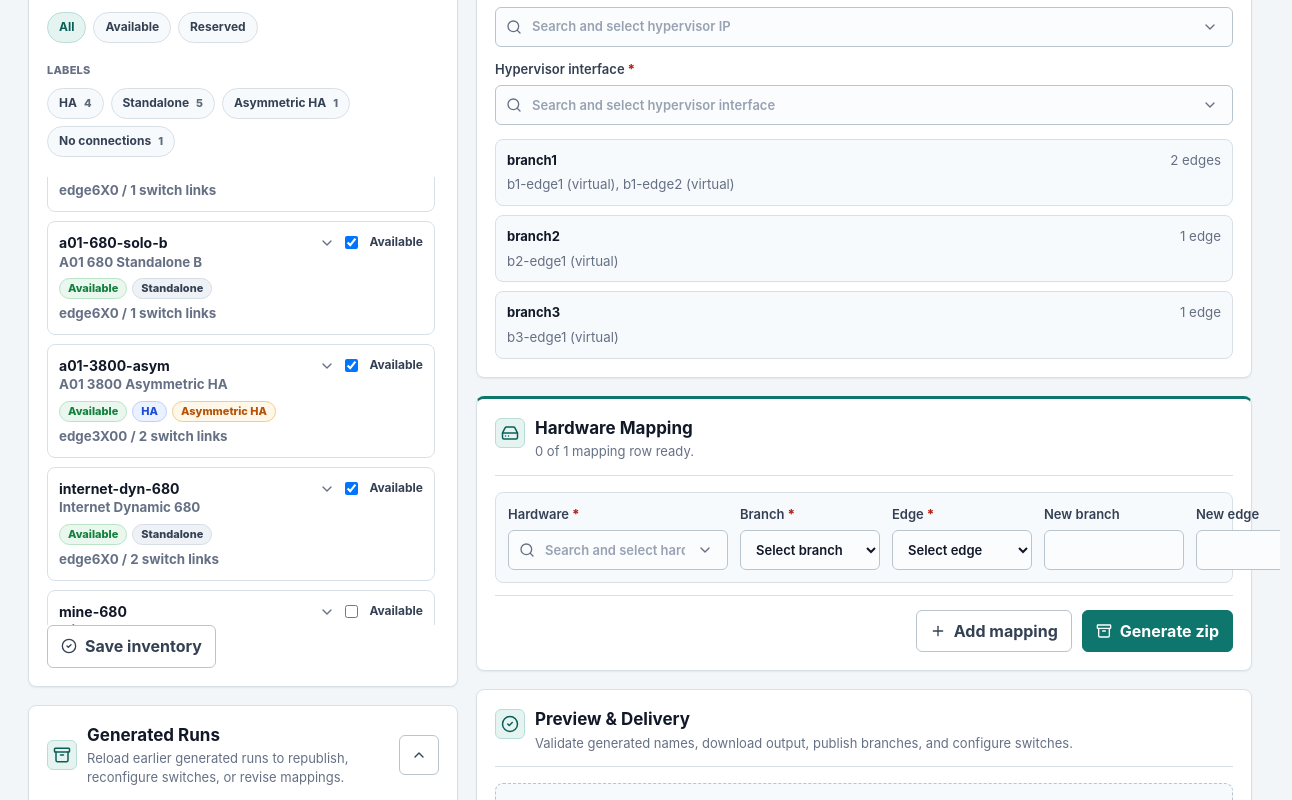
App › labels asymmetric HA hardware in inventory
(page scrolled)
Expected: the text "Asymmetric HA" below "Labels" is shown, [234,95,326,110]
What coordinates should you click on to do the following:
click the button "a01-3800-asym"
I would click on:
 (197, 401)
Its box is [59,356,335,446].
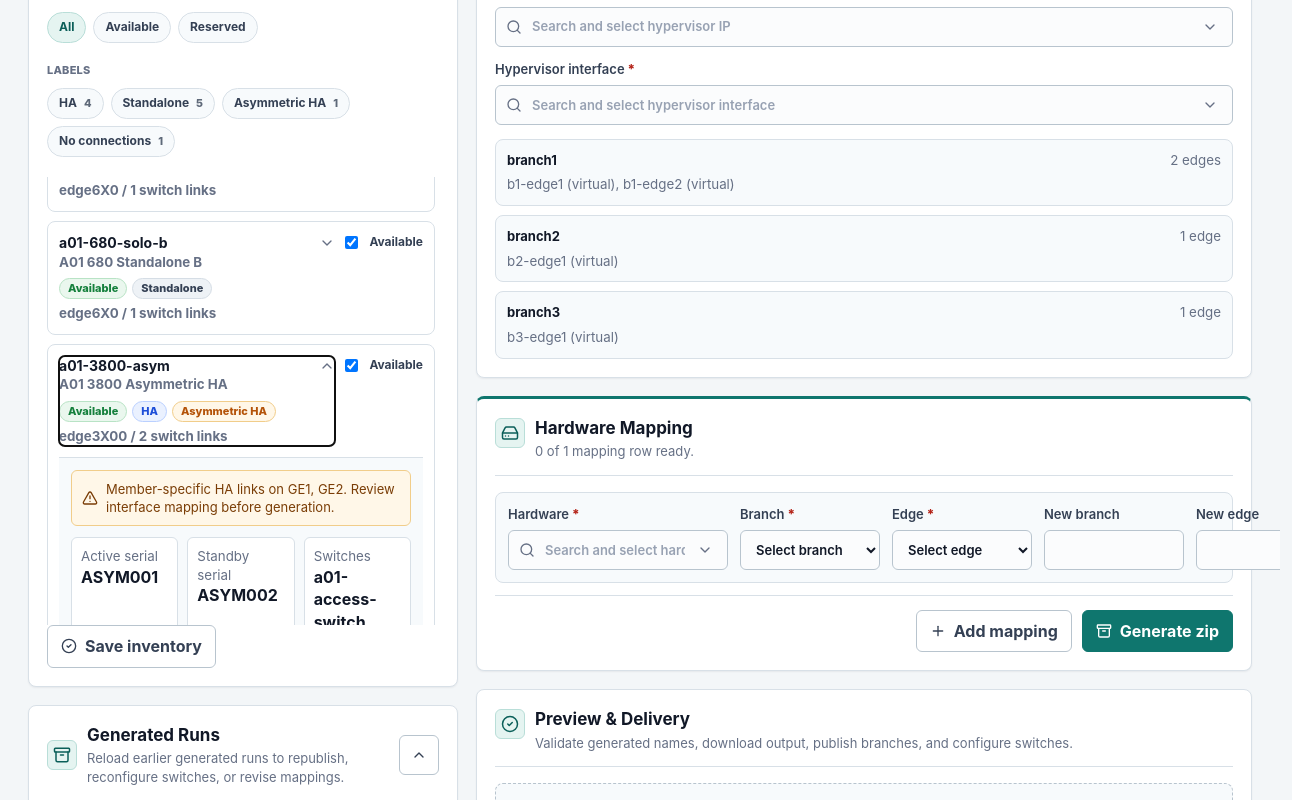
Result: the text "Member-specific HA links on GE1, GE2. Review interface mapping before generation." is shown at [106,481,395,515]
